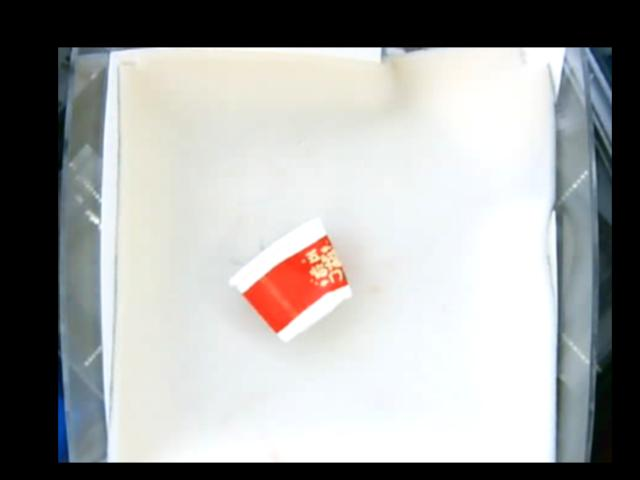Cup: (229, 215, 354, 341)
